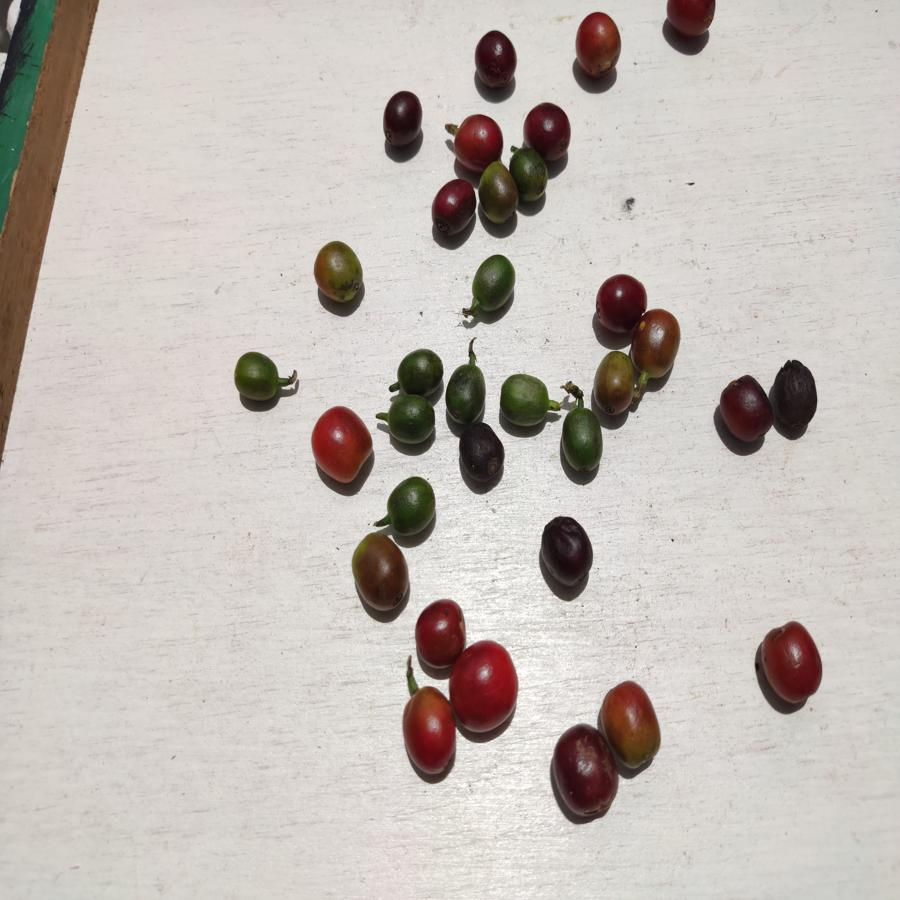Inmaduro: (385, 478, 438, 536), (231, 349, 284, 406), (498, 371, 550, 429), (561, 403, 602, 476), (469, 254, 516, 317), (381, 394, 436, 446), (445, 360, 489, 419), (394, 347, 445, 395), (511, 150, 549, 202)
Maduro: (449, 637, 520, 736), (754, 620, 825, 705), (401, 682, 458, 777), (311, 406, 374, 486), (413, 598, 465, 667), (571, 11, 623, 76), (450, 114, 507, 161)
Pinton: (604, 684, 665, 769), (353, 537, 410, 611), (310, 239, 365, 308), (591, 353, 641, 415), (637, 310, 677, 385), (478, 165, 513, 223)
Sobremaduro: (551, 727, 613, 816), (536, 519, 594, 587), (718, 376, 773, 446), (771, 359, 819, 429), (589, 274, 641, 335), (457, 424, 506, 480), (473, 28, 517, 90), (379, 90, 424, 148), (431, 178, 474, 234), (523, 101, 571, 149)
